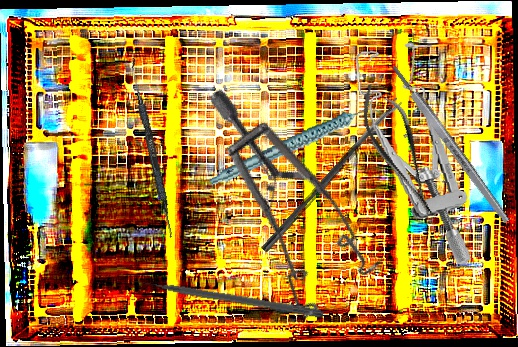Handpiece: (202, 104, 389, 186)
Micro Scissor: (349, 76, 449, 227)
Pusher: (130, 274, 325, 319)
Scalpel Handle: (389, 63, 512, 225)
Spatula Surgical: (124, 58, 179, 238)
Speculum: (136, 84, 418, 341), (352, 35, 476, 276)
Surgical Spoon: (261, 97, 403, 254)
